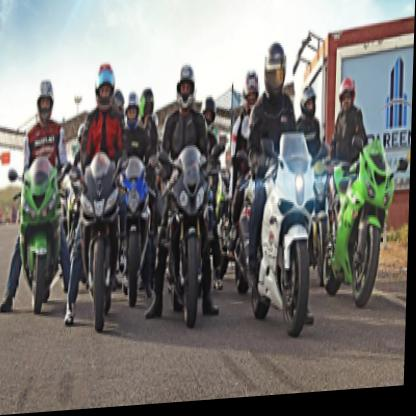With Helmet: (262, 43, 288, 100), (93, 59, 117, 109), (175, 65, 198, 111), (35, 78, 57, 124), (337, 79, 359, 117), (299, 86, 319, 123), (126, 92, 142, 135)
